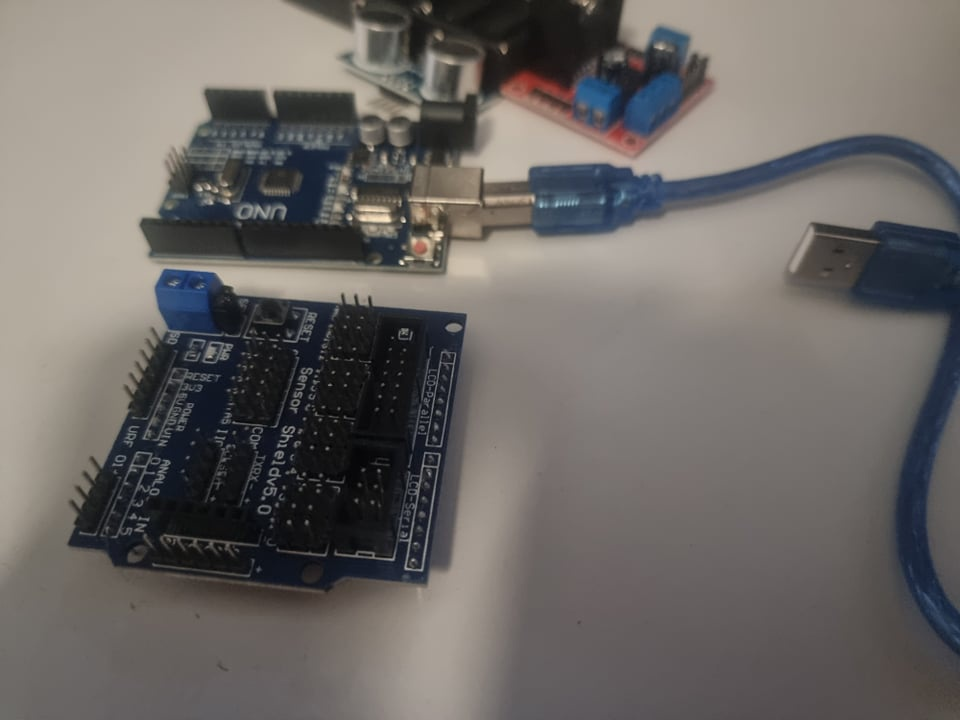5V EXPANSION: (64, 267, 466, 587)
MOTOR: (502, 2, 719, 157)
SENSOR: (327, 6, 491, 109)
UNO R3: (141, 81, 481, 275)
